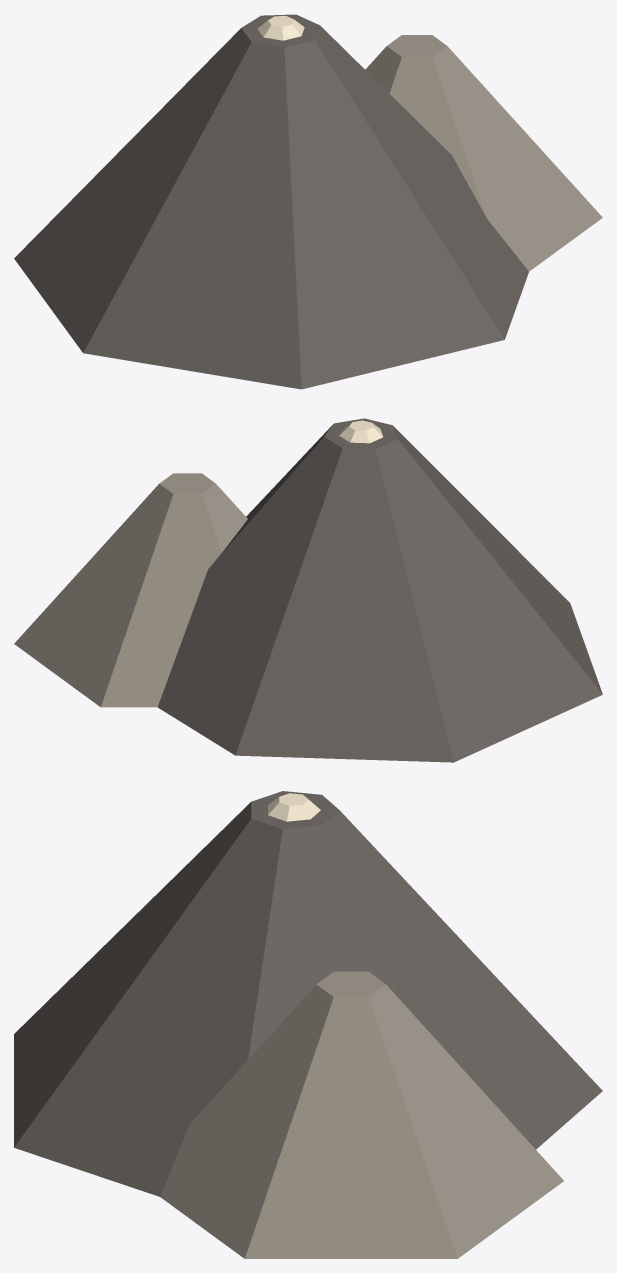
The model's file is PR_Nature_Dag.fbx.
3 renders of one model, top to bottom at view 1: azimuth 30°, elevation 25°; view 2: azimuth 150°, elevation 25°; view 3: azimuth 270°, elevation 25°, orthographic. The views are drawn at different scales.
Parts seen in each view (by area): view 1: PR_Nature_Dag; view 2: PR_Nature_Dag; view 3: PR_Nature_Dag.
Boxes of the visible parts, left/top/right/bottom form: PR_Nature_Dag: left=14, top=14, right=602, bottom=389; PR_Nature_Dag: left=14, top=418, right=602, bottom=762; PR_Nature_Dag: left=14, top=791, right=602, bottom=1258.
Size of the model in its own units: 18.06 by 8.3 by 15.21.
